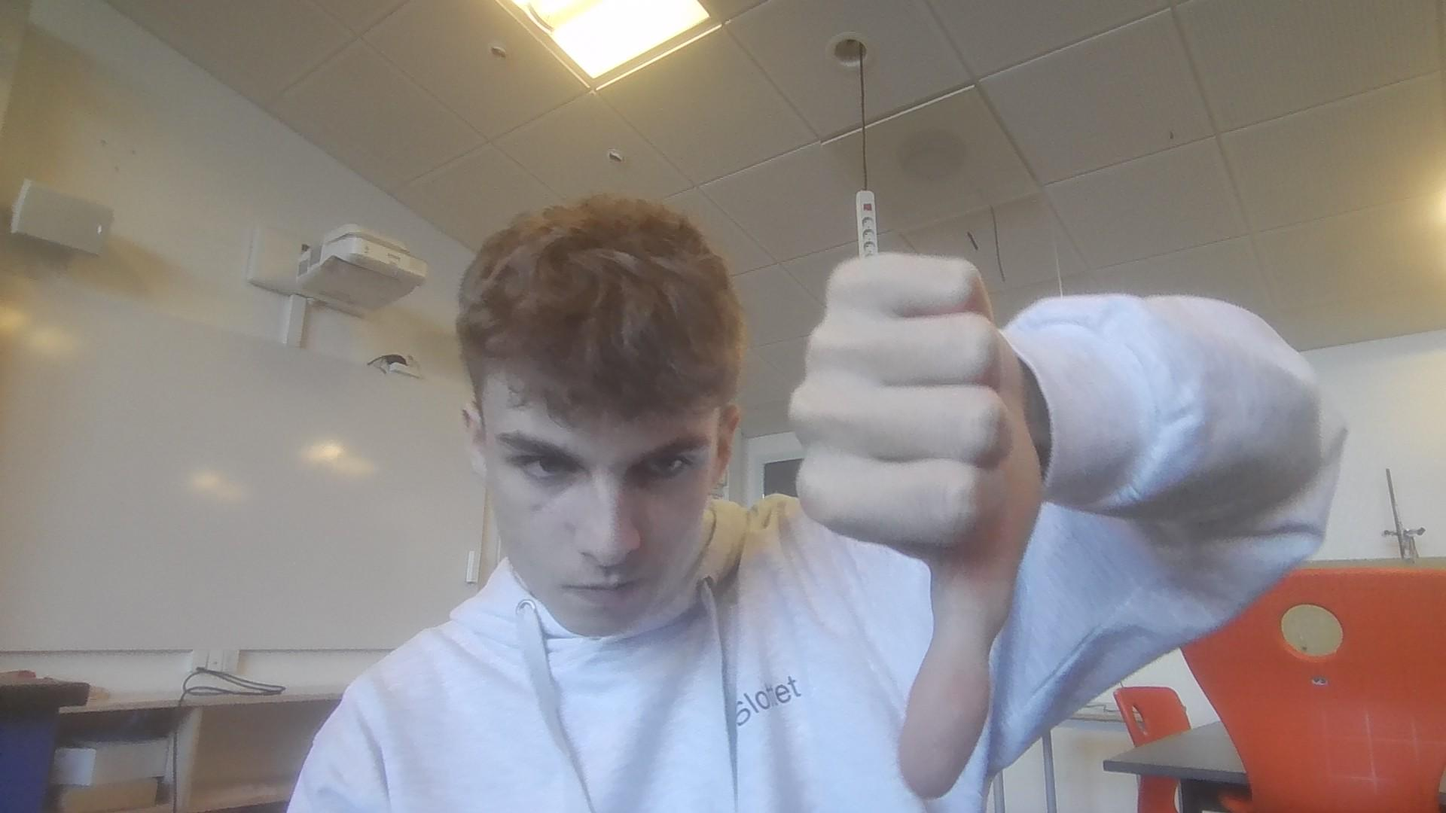thumbs down: (804, 230, 1054, 749)
